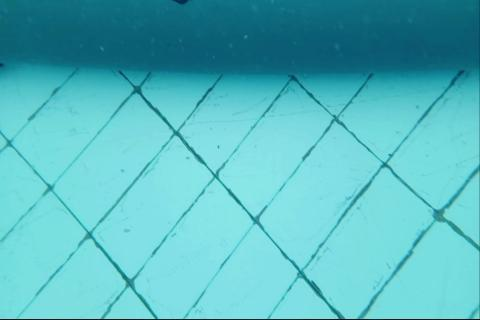kebocoran: (170, 0, 189, 6)
